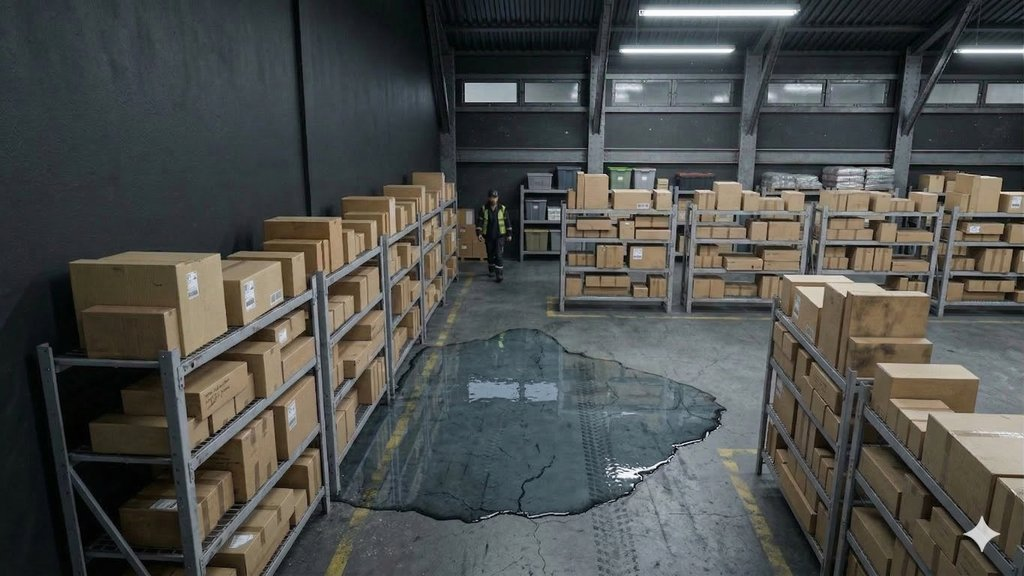person: (457, 175, 535, 284)
safety_vest: (478, 206, 513, 236)
spill: (356, 317, 717, 533)
